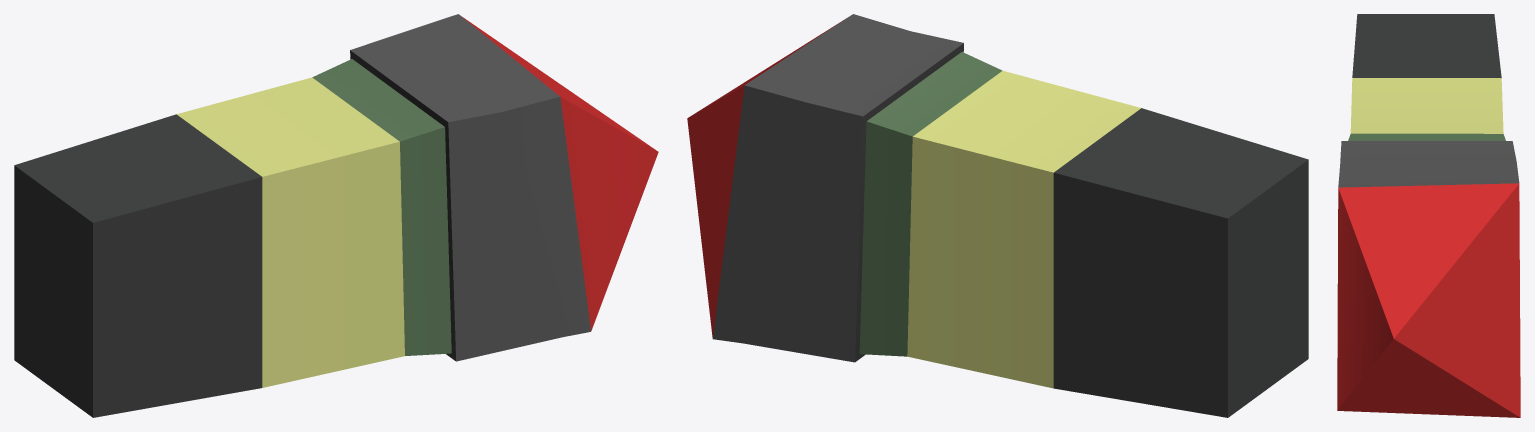
Rendered from MinerZombieRightForearmGib.glb.
3 views of the same model, side by side, from view 1: azimuth 30°, elevation 25°; view 2: azimuth 150°, elevation 25°; view 3: azimuth 270°, elevation 25° (orthographic). The views are drawn at different scales.
Parts seen in each view (by area): view 1: MinerZombieRightForearmGib; view 2: MinerZombieRightForearmGib; view 3: MinerZombieRightForearmGib.
Boxes of the visible parts, x1=… form: MinerZombieRightForearmGib: x1=14, y1=14, x2=658, y2=417; MinerZombieRightForearmGib: x1=687, y1=14, x2=1308, y2=417; MinerZombieRightForearmGib: x1=1337, y1=14, x2=1520, y2=417.
Bounding box in the file's own units: 2.65 × 1.1 × 0.8257.
1 material, 1 textured.
